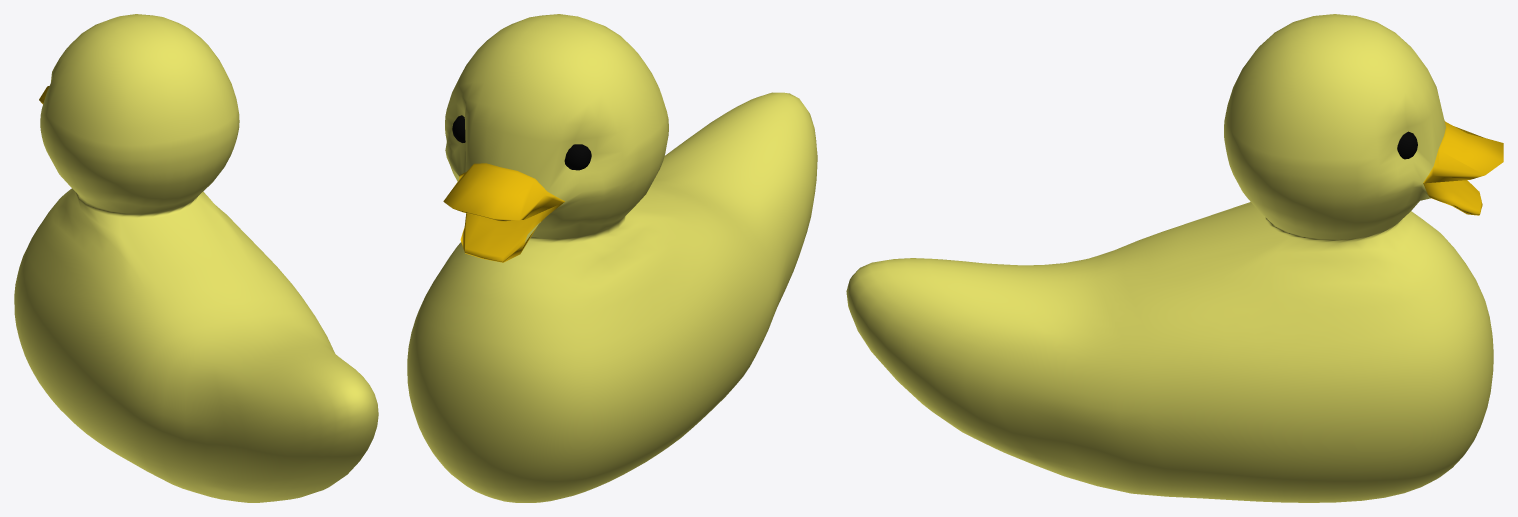
Rendered from Patito.fbx.
The picture shows the model from 3 angles, left to right: view 1: azimuth 30°, elevation 25°; view 2: azimuth 150°, elevation 25°; view 3: azimuth 270°, elevation 25°; orthographic projection. The views are drawn at different scales.
Visible parts, largest first — view 1: Patito; view 2: Patito; view 3: Patito.
Part boxes in pixels (x1,y1,x2,y2): Patito: [14, 14, 378, 502]; Patito: [407, 14, 817, 502]; Patito: [846, 14, 1503, 502].
Size of the model in its own units: 14 by 24.84 by 32.15.
